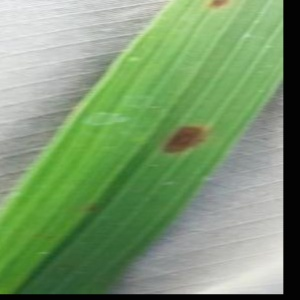Bacterial_Leaf_Blight: (155, 120, 214, 159), (199, 0, 236, 14), (100, 194, 117, 205), (84, 202, 99, 214)
